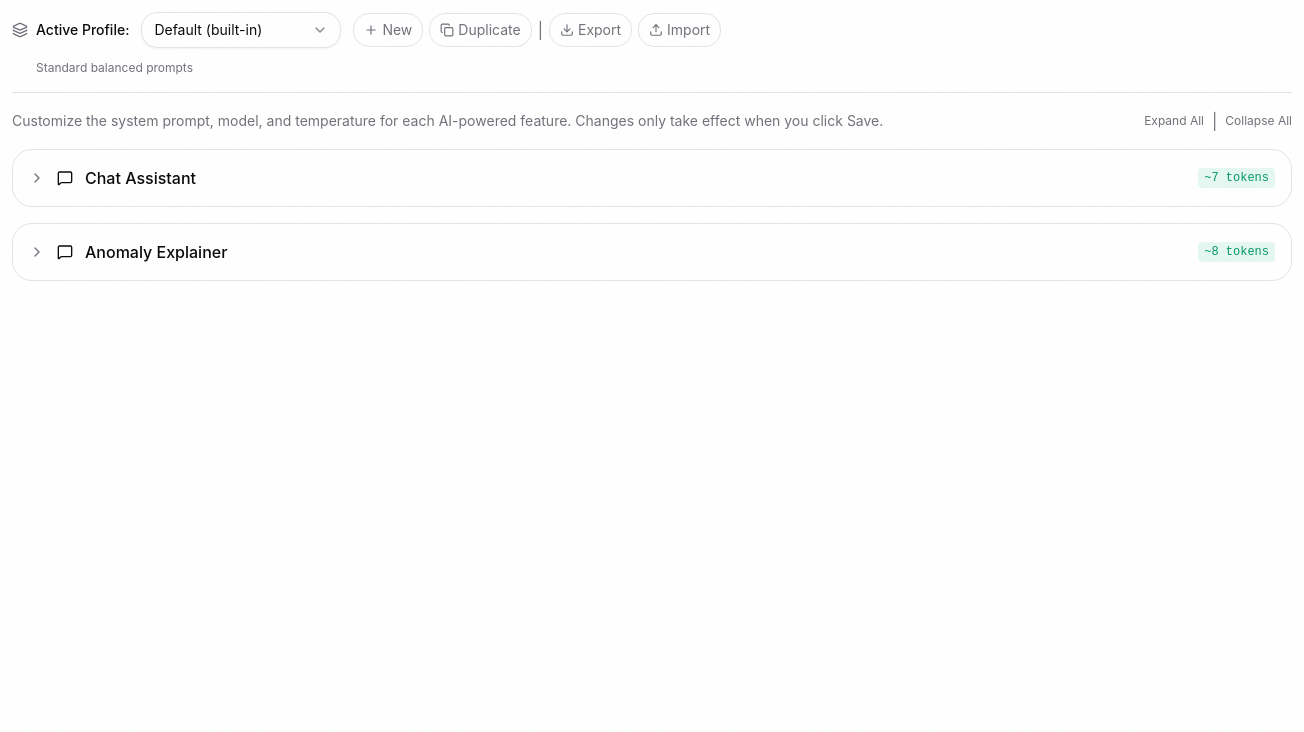
Test: AiPromptsTab › expands accordion and shows prompt textarea
The image size is (1304, 732).
// Click to expand
Click the text "Chat Assistant".
click(140, 178)  # box [85,166,196,190]
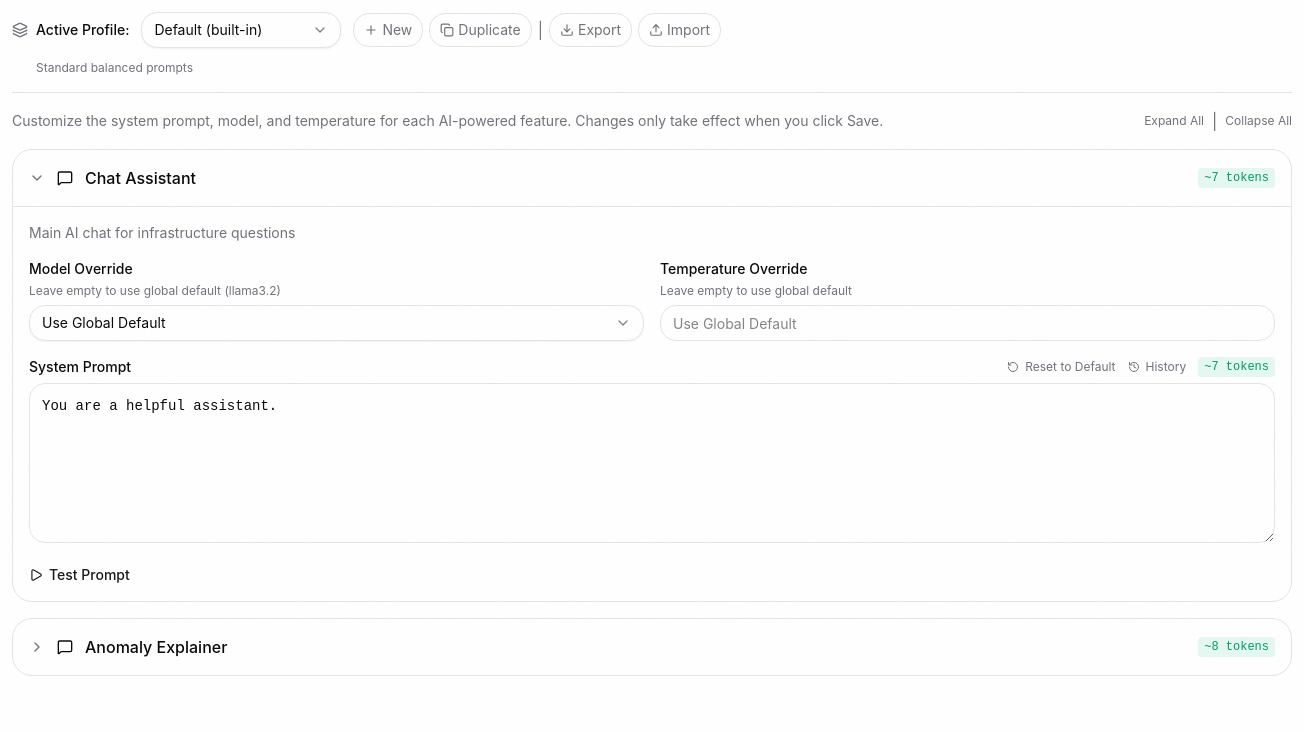
Expected: the text "System Prompt" is shown, [29,357,131,377]
Expected: the text "Model Override" is shown, [29,260,133,277]
Expected: the text "Temperature Override" is shown, [660,260,807,277]
